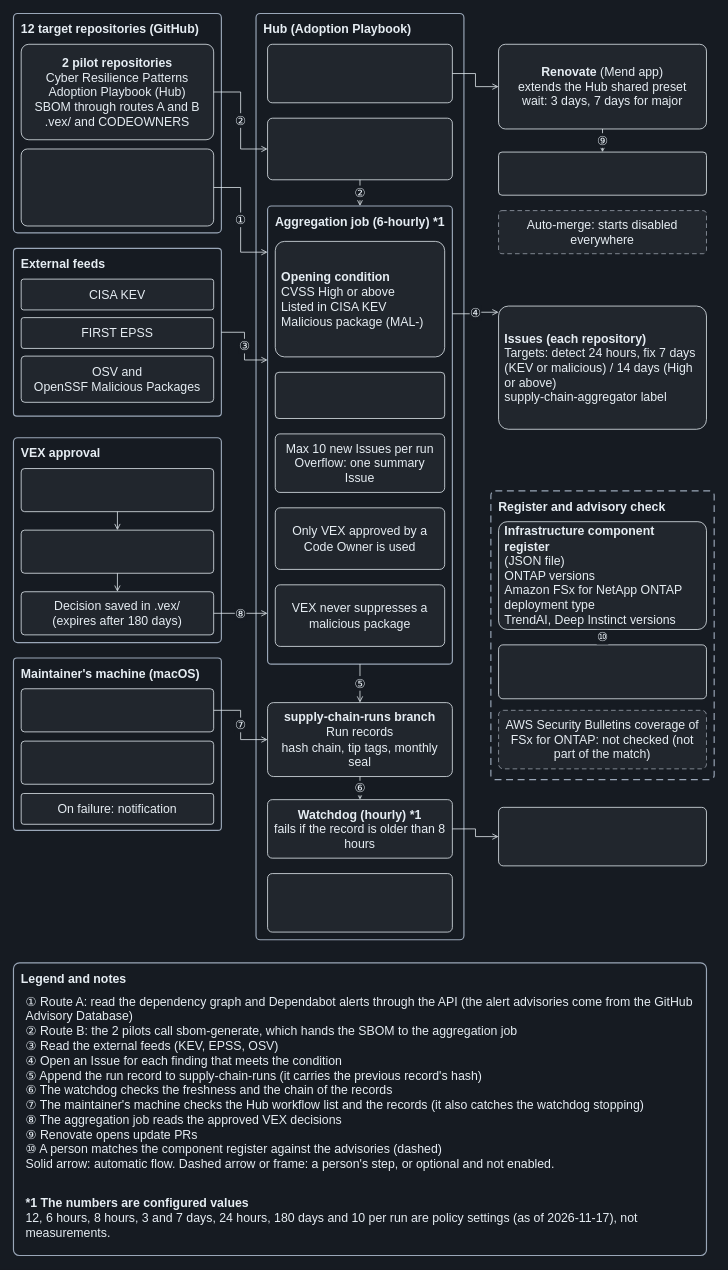
Some shapes in this 728 by 1270 pixel diagram are drawn without their labels. Each missing label, with the centre of its shape:
"A separate-identity GitHub App opens the PR" goes at [117,490].
"EPSS is shown only (not used to open)" goes at [360,395].
"launchd deadline check (daily 09:00)" goes at [117,762].
"launchd weekly check (Monday 09:00)" goes at [117,710].
"NetApp security advisories (RSS)" goes at [602,671].
"On failure: append to the Hub failure Issue (opened if none is open)" goes at [602,836].
"PR checks vex-validate cooldown-pinning-check" goes at [359,902].
"sbom-generate reusable workflow skip-paths input" goes at [359,148].
"Shared Renovate preset v1.0.0 (immutable release)" goes at [359,73].
"The other 10 Route A only (dependency graph and Dependabot alerts)" goes at [117,187].
"The owner approves (CODEOWNERS /.vex/)" goes at [117,551].
"Update PRs (each repository)" goes at [602,173].
